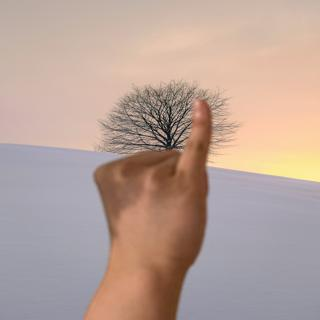FINE: (91, 94, 220, 282)
